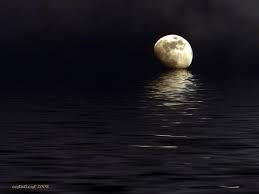moon: (154, 34, 193, 70)
